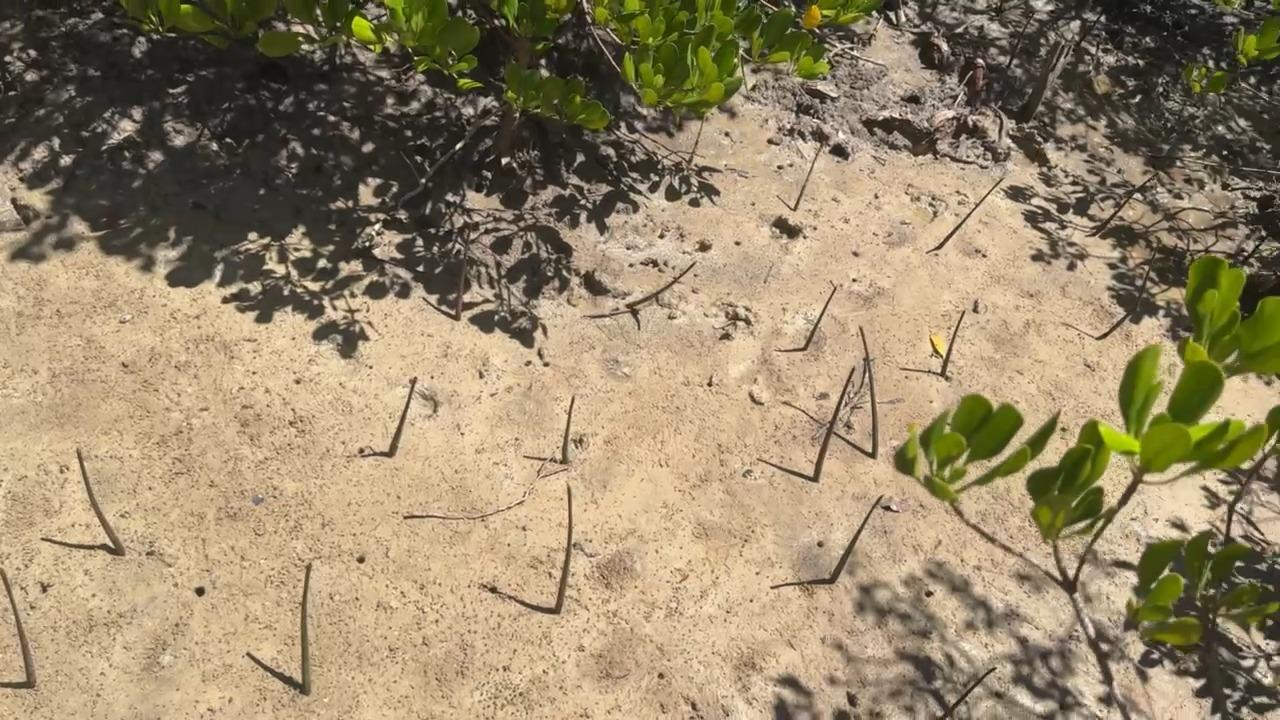Tree: (74, 446, 128, 556), (828, 494, 886, 585), (812, 366, 857, 483), (936, 176, 1006, 251), (0, 566, 37, 689), (1096, 171, 1159, 230), (627, 260, 699, 310), (857, 324, 880, 460), (941, 666, 998, 720), (554, 481, 574, 616), (802, 282, 838, 351), (792, 140, 826, 213), (388, 376, 418, 458), (299, 563, 314, 697), (1132, 241, 1160, 312), (454, 219, 473, 322), (940, 308, 967, 379), (562, 395, 578, 464), (688, 111, 706, 163)
